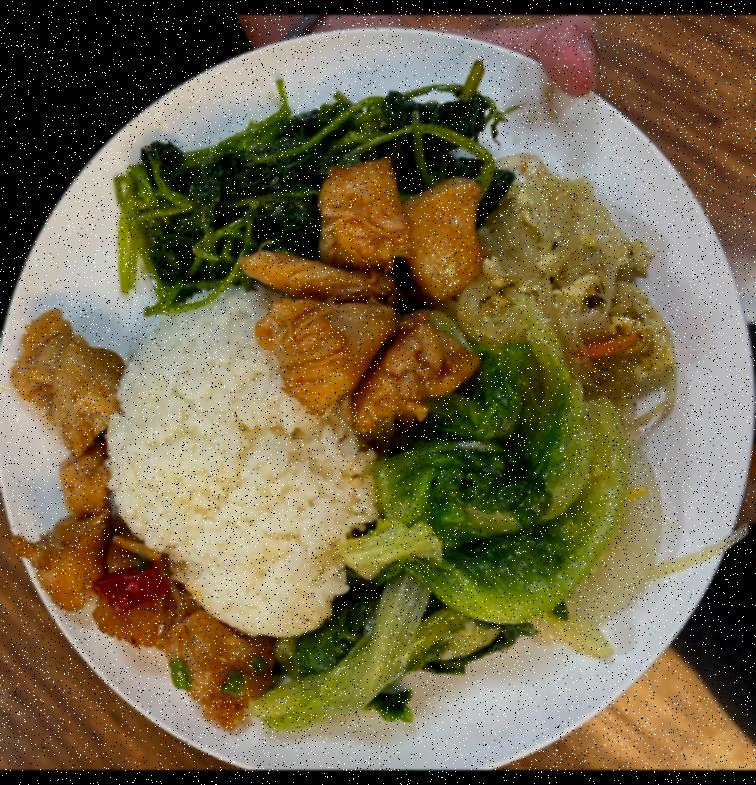plate: (0, 14, 756, 770)
side dish: (259, 348, 647, 738), (119, 84, 507, 296), (446, 161, 677, 399)
spicy chicken: (6, 160, 479, 727)
white rice: (110, 285, 378, 638)
